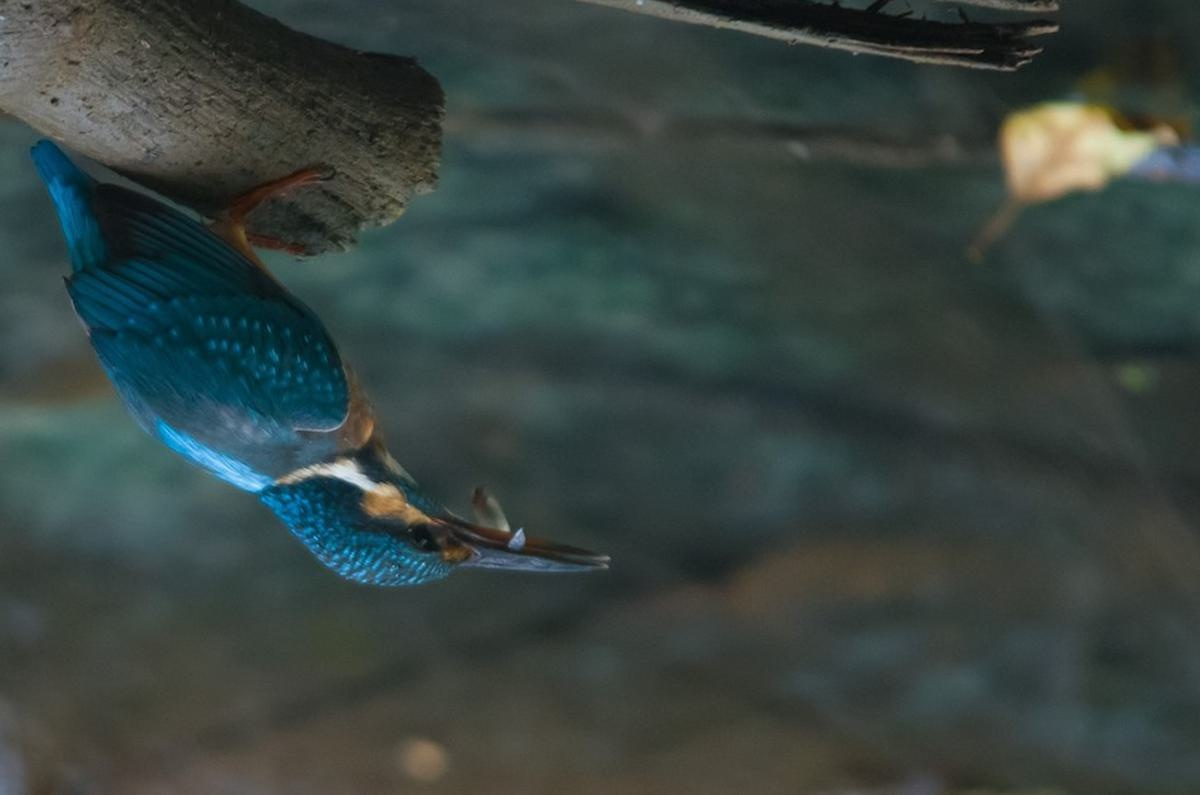kingfisher: (22, 140, 641, 650)
